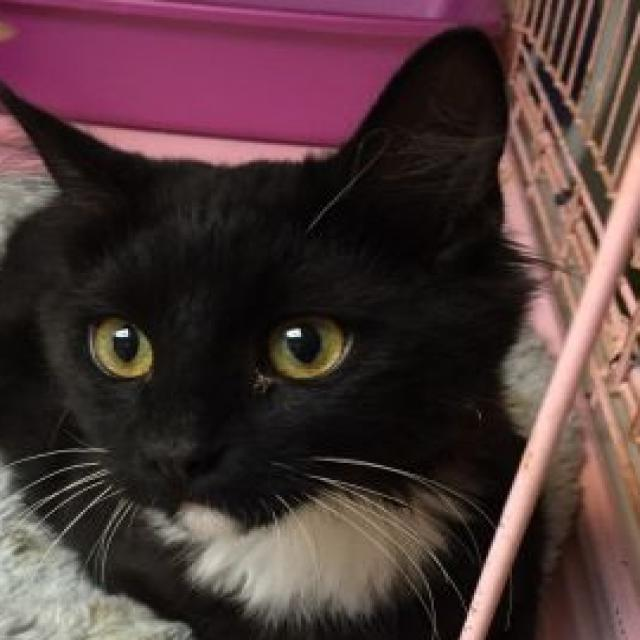Tuxedo: (0, 19, 550, 640)
